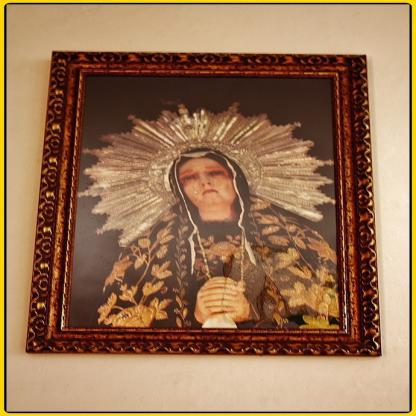Picture-frame: (27, 51, 382, 357)
